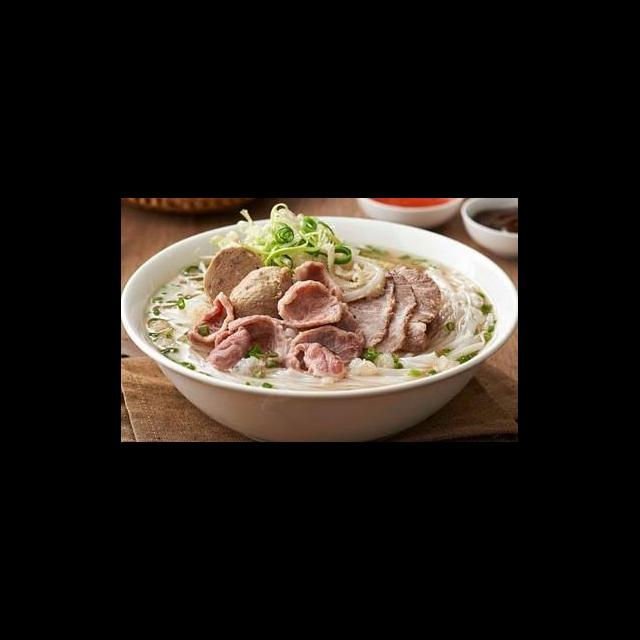banh pho: (422, 260, 498, 365), (194, 356, 348, 394), (346, 347, 466, 393)
pho bo: (121, 228, 518, 442)
thit bo: (290, 257, 368, 353), (326, 266, 400, 354), (384, 264, 446, 358), (364, 266, 422, 357), (210, 311, 290, 370), (284, 321, 368, 367), (272, 277, 346, 329), (185, 289, 238, 350), (280, 340, 350, 384), (204, 322, 254, 374)
